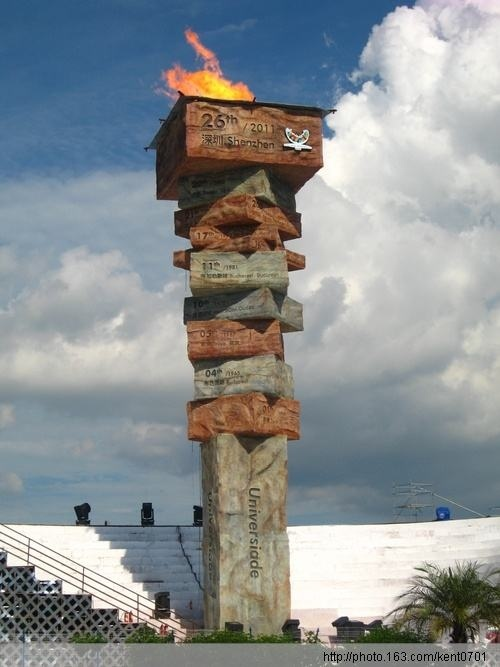fire: (162, 27, 257, 103)
